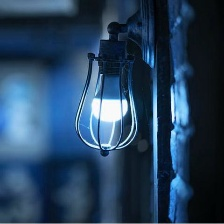light_bulb: (89, 71, 132, 124)
